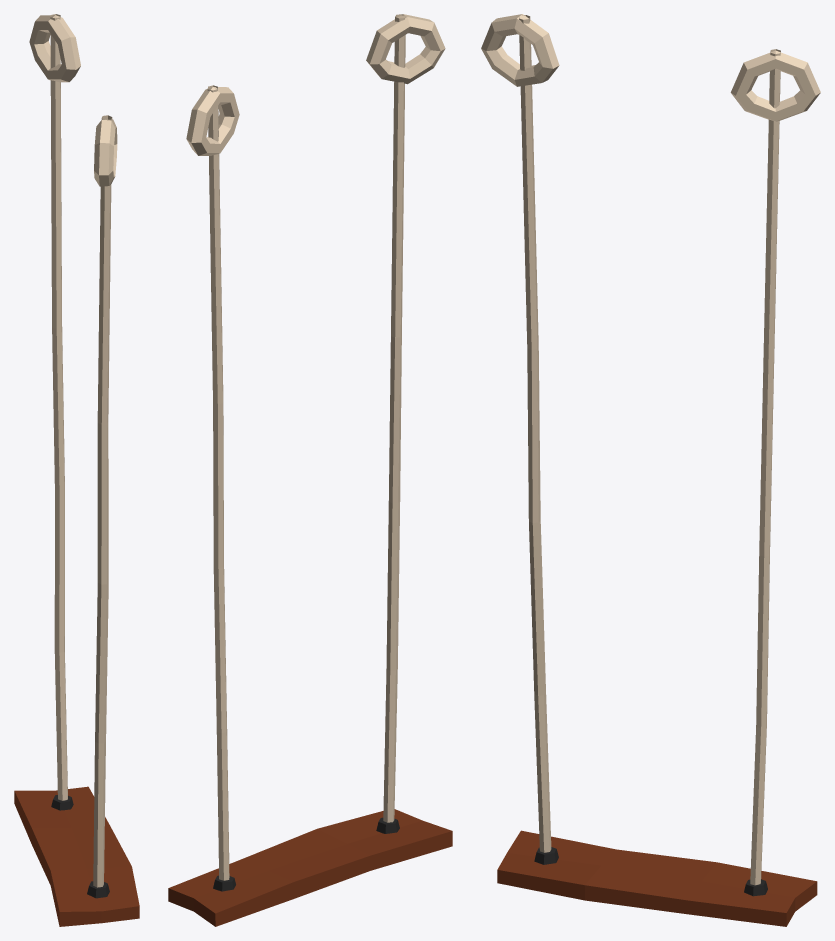
The model's file is swing.glb.
3 views of the same model, side by side, from view 1: azimuth 30°, elevation 25°; view 2: azimuth 150°, elevation 25°; view 3: azimuth 270°, elevation 25° (orthographic). The views are drawn at different scales.
Visible parts, largest first — view 1: Swing; view 2: Swing; view 3: Swing.
Boxes of the visible parts, x1=… form: Swing: x1=14, y1=14, x2=139, y2=926; Swing: x1=168, y1=14, x2=452, y2=926; Swing: x1=481, y1=14, x2=820, y2=926.
Size of the model in its own units: 0.8472 by 4.27 by 1.52.
1 material, 1 textured.
